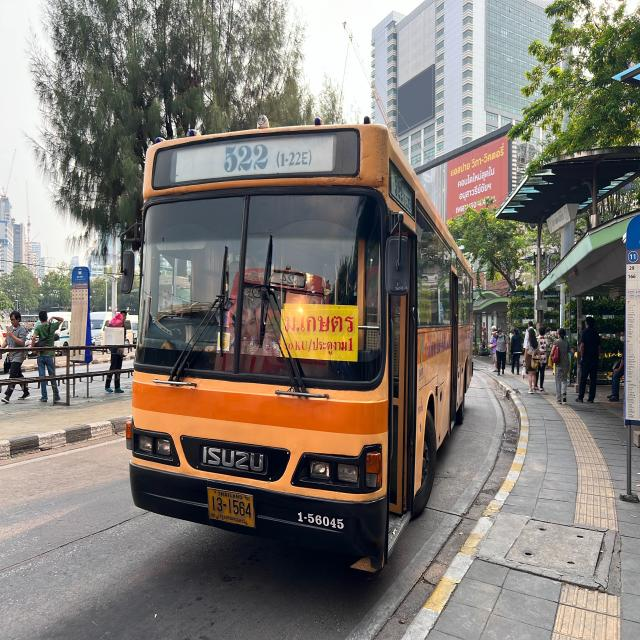BMTA-bus: (125, 105, 477, 585)
Bus-Line-Number: (218, 137, 316, 173)
Destination-Sign-Extra-Bus-Expressway: (280, 302, 358, 362)
